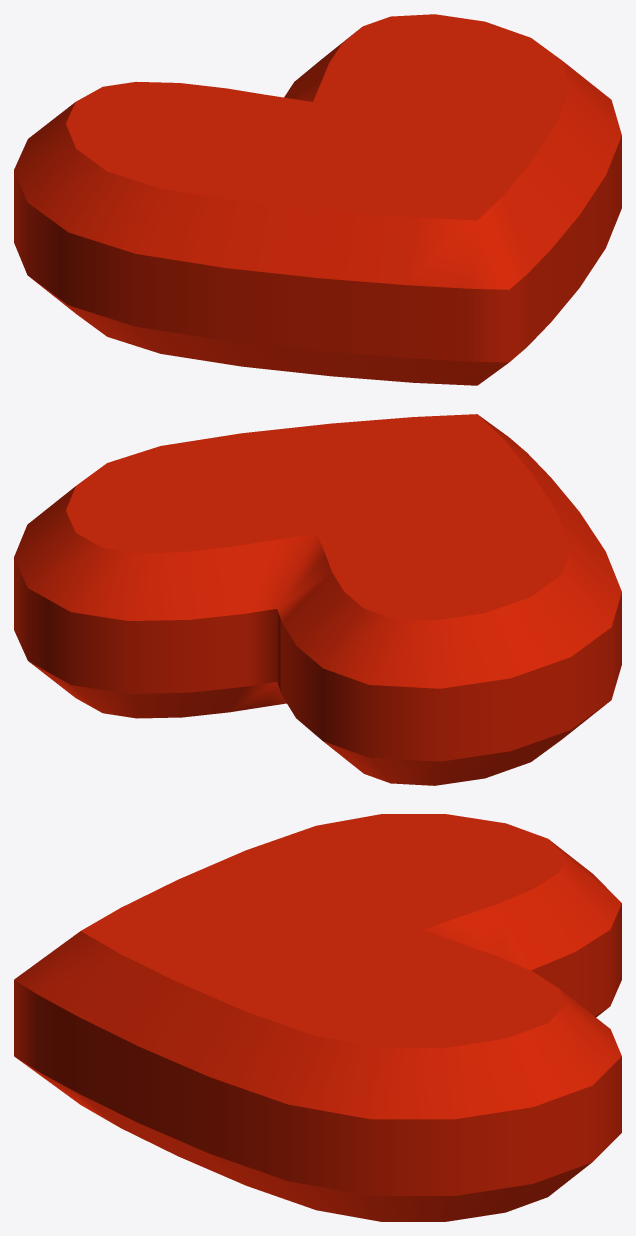
File: hart.fbx
3 views of the same model, one above another, from view 1: azimuth 30°, elevation 25°; view 2: azimuth 150°, elevation 25°; view 3: azimuth 270°, elevation 25° (orthographic). The views are drawn at different scales.
Parts seen in each view (by area): view 1: BezierCircle; view 2: BezierCircle; view 3: BezierCircle.
Part boxes in pixels (left/top/right/bottom): BezierCircle: left=14, top=14, right=621, bottom=385; BezierCircle: left=14, top=414, right=621, bottom=785; BezierCircle: left=14, top=814, right=621, bottom=1221.
Size of the model in its own units: 2.03 by 0.59 by 1.87.
